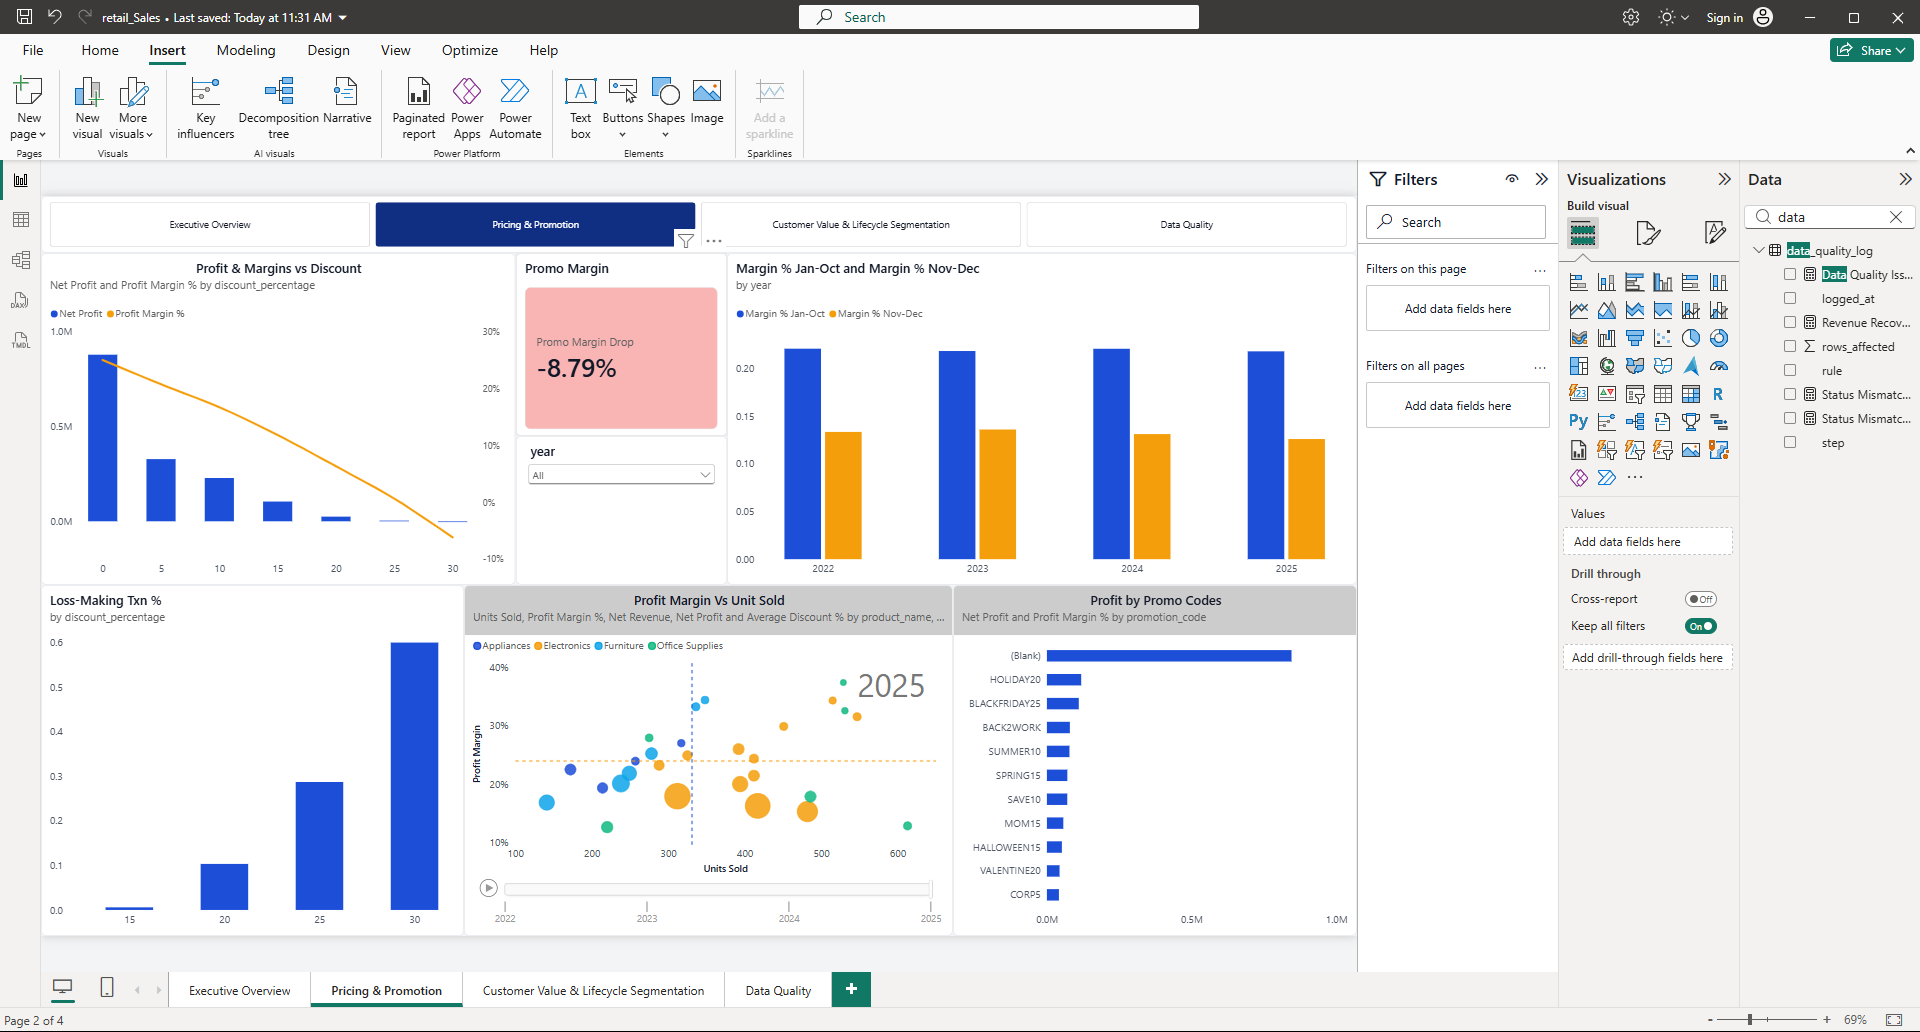

The page's visual inventory and layout, read from the dashboard file:
{"tool":"powerbi","page":{"name":"Pricing & Promotion","canvas":[1920,1080],"ordinal":1},"visuals":[{"type":"pageNavigator","box":[0,0,1920,83.2],"z":0},{"type":"lineClusteredColumnComboChart","title":"Profit & Margins vs Discount","fields":{"Category":["fact_sales.discount_percentage"],"Y":["fact_sales.Net Profit"],"Y2":["fact_sales.Profit Margin %"]},"box":[0,83.2,691.6,484.4],"z":1000},{"type":"columnChart","fields":{"Category":["fact_sales.discount_percentage"],"Y":["fact_sales.Loss-Making Txn %"]},"box":[0,567.5,617.1,512.1],"z":2000},{"type":"clusteredColumnChart","fields":{"Category":["dim_date.year"],"Y":["fact_sales.Margin % Jan-Oct","fact_sales.Margin % Nov-Dec"]},"box":[1000.9,83.2,919.1,484.4],"z":3000},{"type":"scatterChart","title":"Profit Margin Vs Unit Sold","fields":{"Category":["dim_product.product_name"],"Play":["dim_date.year"],"Series":["dim_product.product_category"],"Size":["fact_sales.Net Revenue"],"X":["fact_sales.Units Sold"],"Y":["fact_sales.Profit Margin %"]},"box":[617.1,567.5,713.4,512.1],"z":4000},{"type":"cardVisual","title":"Promo Margin","fields":{"Data":["fact_sales.Promo Margin Drop (pts)"]},"box":[693,83.2,307.8,267],"z":5000},{"type":"barChart","title":"Profit by Promo Codes","fields":{"Category":["fact_sales.Promo Label"],"Y":["fact_sales.Profit Margin %"]},"box":[1330.6,567.5,589.4,512.1],"z":6000},{"type":"slicer","fields":{"Values":["dim_date.year"]},"box":[693,350.2,307.8,217.4],"z":7000}]}

Visuals, with their boxes on the page's 1920x1080 design canvas (x1, y1, x2, y2). These are canvas units, not pixel positions in the 1920x1032 screenshot, which may show the page scaled, cropped or inside an application window:
pageNavigator: left=0, top=0, right=1920, bottom=83
"Profit & Margins vs Discount" lineClusteredColumnComboChart: left=0, top=83, right=692, bottom=568
columnChart - fact_sales.discount_percentage x fact_sales.Loss-Making Txn %: left=0, top=568, right=617, bottom=1080
clusteredColumnChart - dim_date.year x fact_sales.Margin % Jan-Oct: left=1001, top=83, right=1920, bottom=568
"Profit Margin Vs Unit Sold" scatterChart: left=617, top=568, right=1330, bottom=1080
"Promo Margin" cardVisual: left=693, top=83, right=1001, bottom=350
"Profit by Promo Codes" barChart: left=1331, top=568, right=1920, bottom=1080
slicer - dim_date.year: left=693, top=350, right=1001, bottom=568
